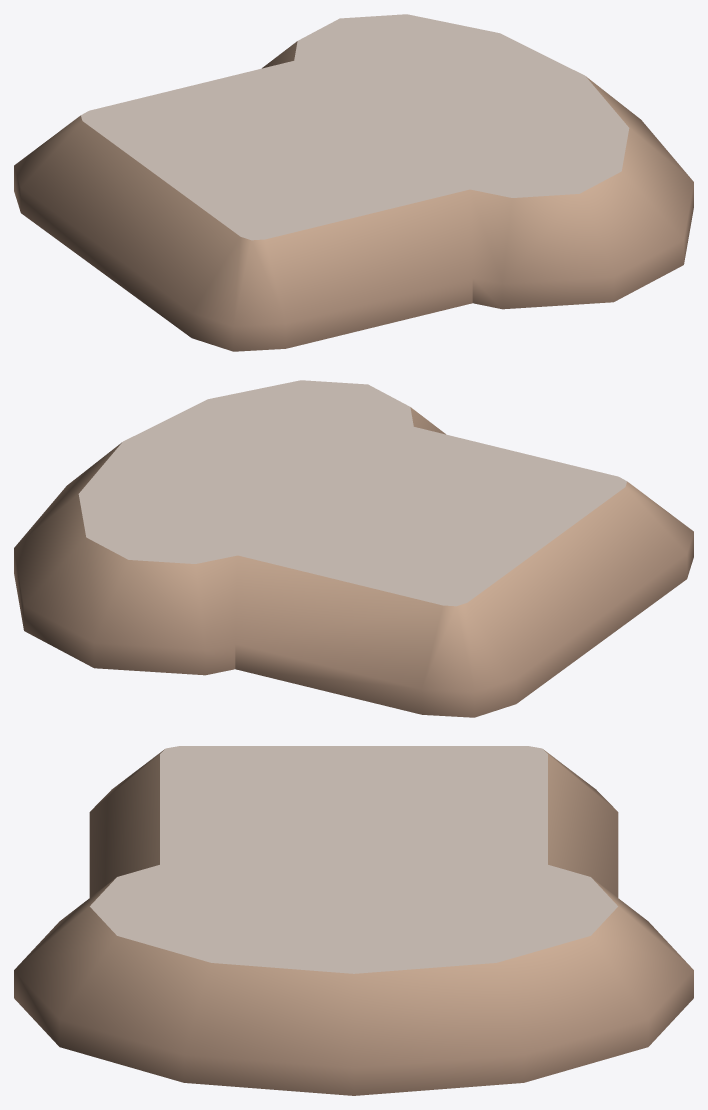
Rendered from food-bread-slice.glb.
3 views of the same model, one above another, from view 1: azimuth 30°, elevation 25°; view 2: azimuth 150°, elevation 25°; view 3: azimuth 270°, elevation 25° (orthographic). The views are drawn at different scales.
Visible parts, largest first — view 1: food-bread-slice; view 2: food-bread-slice; view 3: food-bread-slice.
Part boxes in pixels (x1,y1,x2,y2): food-bread-slice: [14, 14, 693, 351]; food-bread-slice: [14, 380, 693, 717]; food-bread-slice: [14, 746, 693, 1095].
Size of the model in its own units: 0.2202 by 0.0328 by 0.2198.
